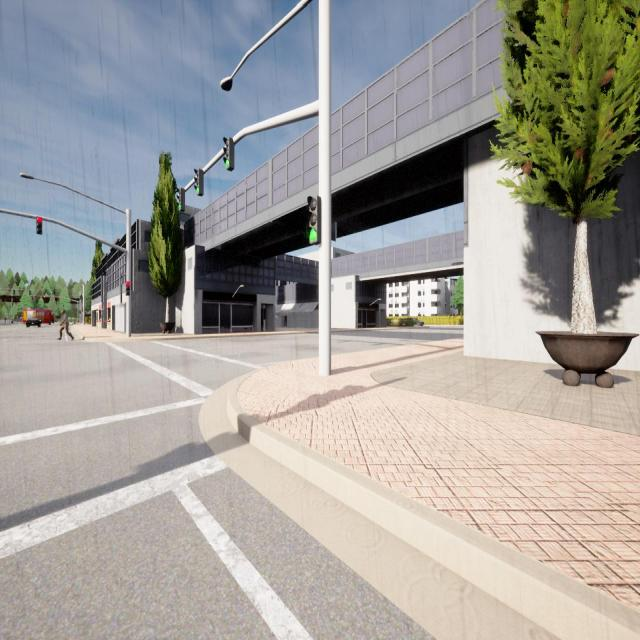Pedestrian: (58, 308, 74, 341)
Vehicle: (23, 309, 54, 325), (26, 316, 41, 328), (412, 318, 424, 327)
traffic_light: (308, 196, 322, 245), (223, 137, 235, 171), (194, 168, 204, 196), (177, 188, 185, 211), (36, 217, 43, 234), (126, 281, 130, 296), (29, 290, 31, 296), (13, 290, 15, 295), (58, 298, 60, 302), (44, 297, 46, 300), (80, 296, 81, 300), (81, 294, 82, 298), (32, 296, 33, 300), (80, 310, 80, 314)
